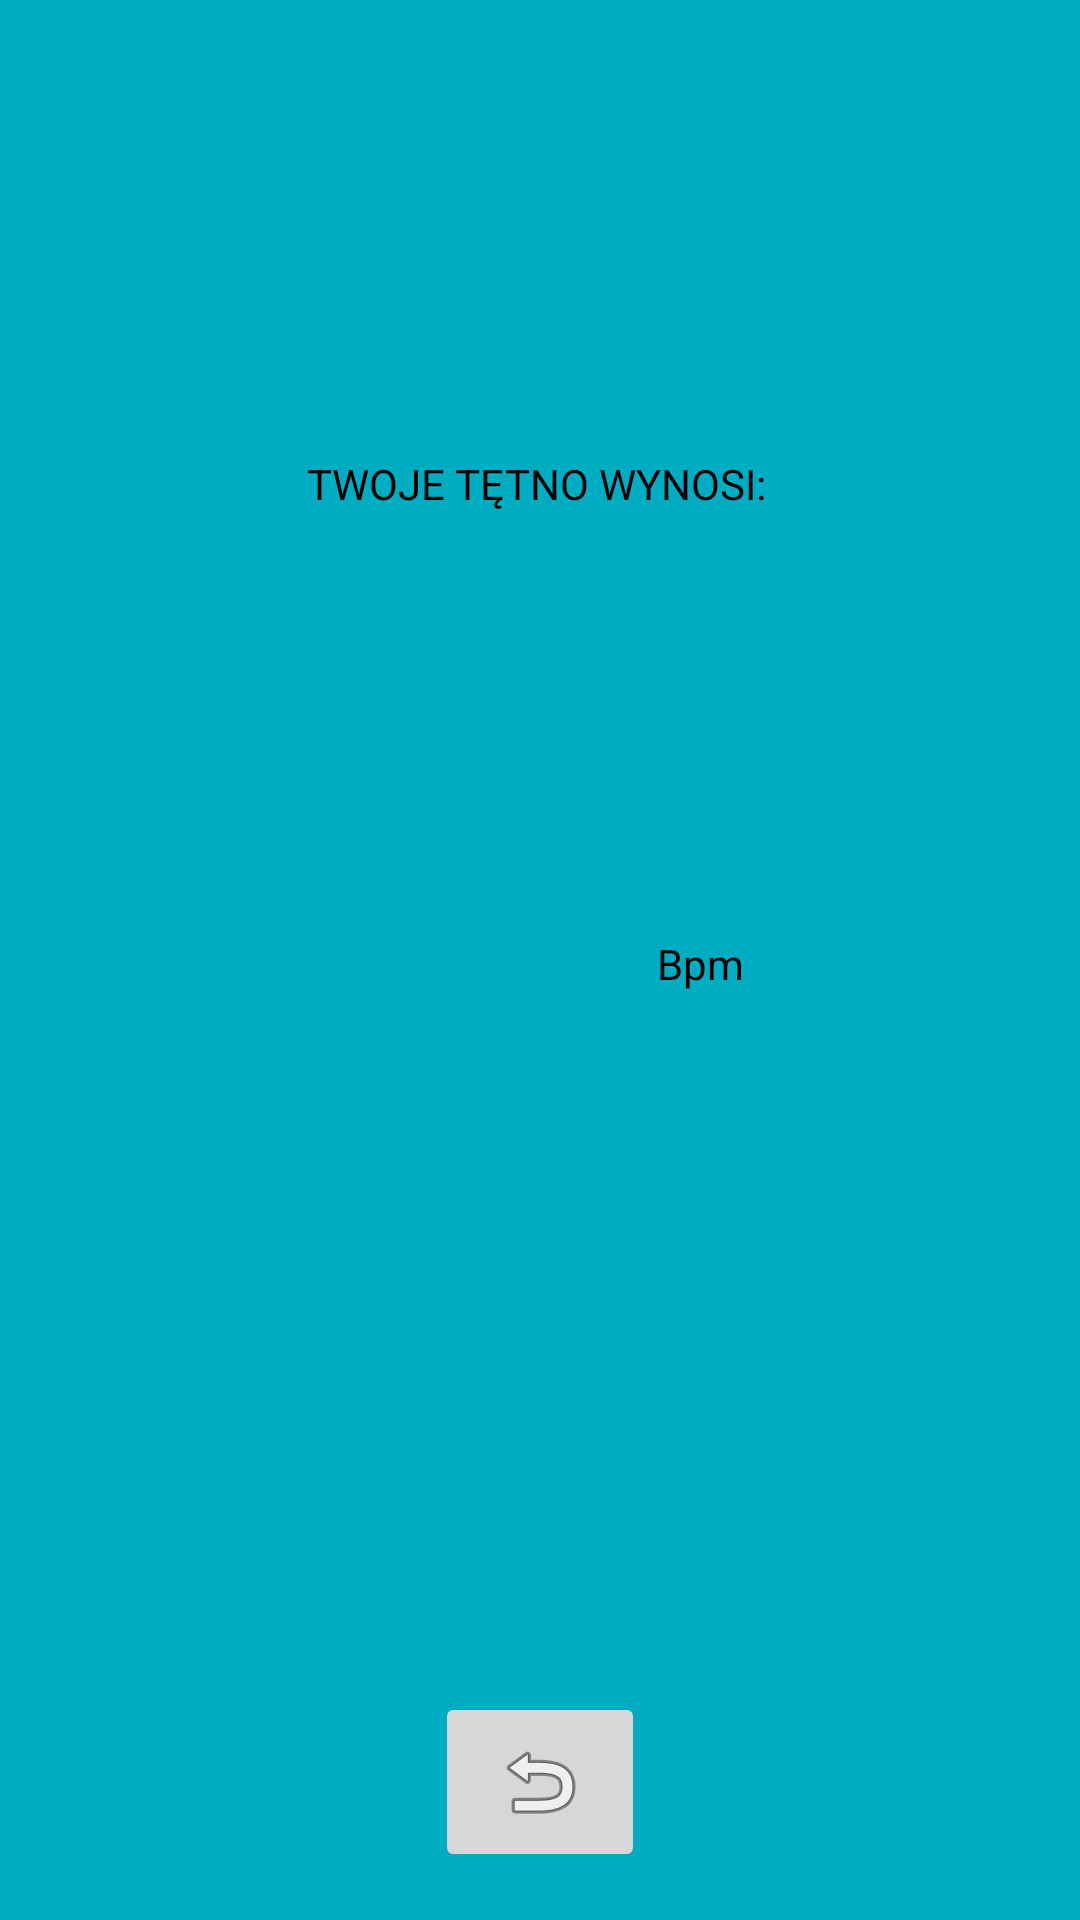

Locate icon controls on the screen. Image size 1080×1920, boxes as (x1, y1, x2, y2).
revert: (447, 1710, 633, 1854)
